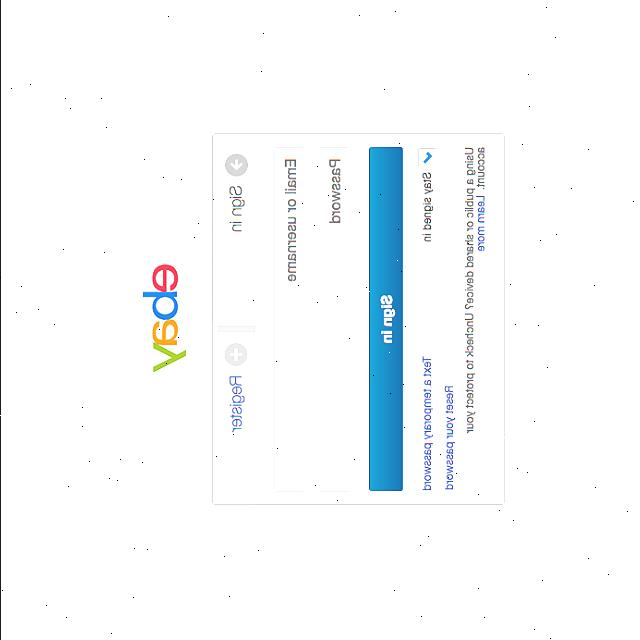QLabel: (464, 146, 474, 437), (421, 354, 433, 496), (444, 383, 456, 492), (227, 375, 245, 433), (421, 172, 434, 242), (228, 184, 245, 232), (379, 294, 395, 344), (476, 195, 486, 251), (477, 146, 485, 190)
VBtn: (367, 146, 403, 492)
VCheckbox: (416, 146, 438, 170)
VIcon: (224, 341, 248, 367), (224, 153, 246, 177)
VImg: (140, 262, 186, 374)
VTabs: (210, 128, 508, 510)
VTextField: (272, 145, 308, 493), (316, 146, 350, 494)
